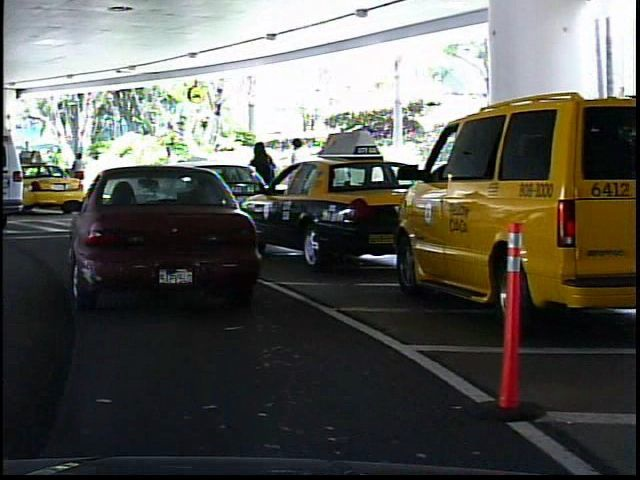person: (246, 136, 281, 219), (282, 133, 312, 211), (156, 141, 181, 204), (66, 149, 88, 195)
